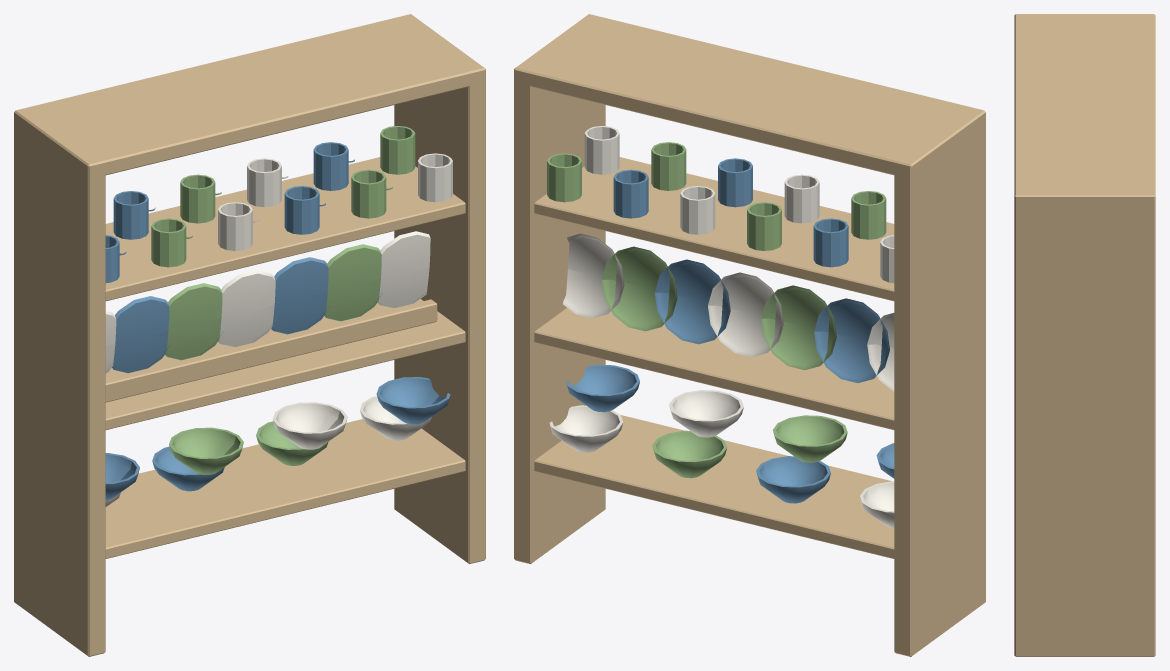
The model's file is indoor-market-hall-and-traders-ceramic-and-homeware-sh-fcd061ca.glb.
The picture shows the model from 3 angles, left to right: view 1: azimuth 30°, elevation 25°; view 2: azimuth 150°, elevation 25°; view 3: azimuth 270°, elevation 25°; orthographic projection. The views are drawn at different scales.
Visible parts, largest first — view 1: ceramic-and-homeware-shelf; view 2: ceramic-and-homeware-shelf; view 3: ceramic-and-homeware-shelf.
Boxes of the visible parts, <box> form: ceramic-and-homeware-shelf: <box>14,14,485,656</box>; ceramic-and-homeware-shelf: <box>514,14,985,656</box>; ceramic-and-homeware-shelf: <box>1014,14,1155,656</box>.
Size of the model in its own units: 1.1 by 1.3 by 0.36.
